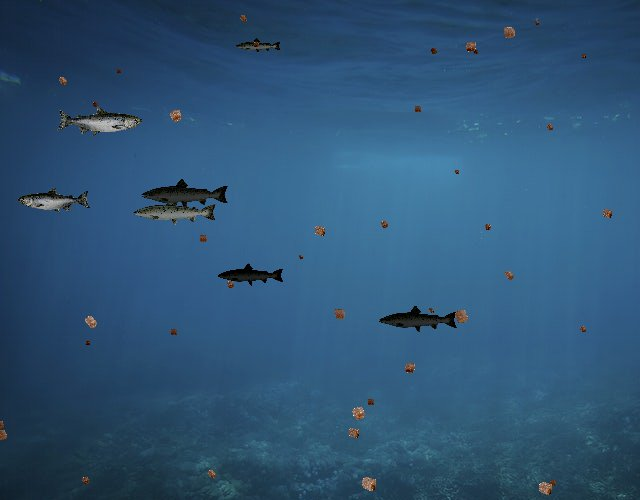Fish: (141, 178, 231, 210), (132, 196, 218, 227), (56, 106, 142, 137), (378, 304, 459, 333), (19, 188, 92, 214), (218, 263, 286, 287), (235, 38, 282, 55)
Pellet: (497, 20, 521, 44), (308, 220, 331, 243), (499, 265, 519, 285), (53, 71, 72, 90), (235, 10, 251, 26), (363, 395, 378, 409), (89, 98, 102, 111), (452, 166, 462, 177)
